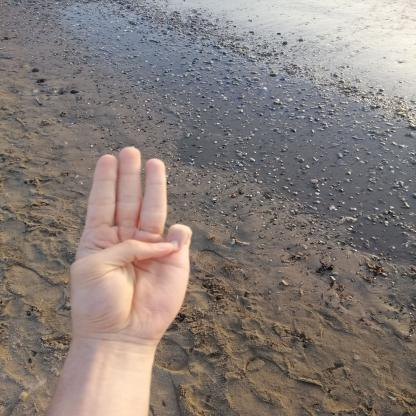THA: (51, 136, 209, 350)
